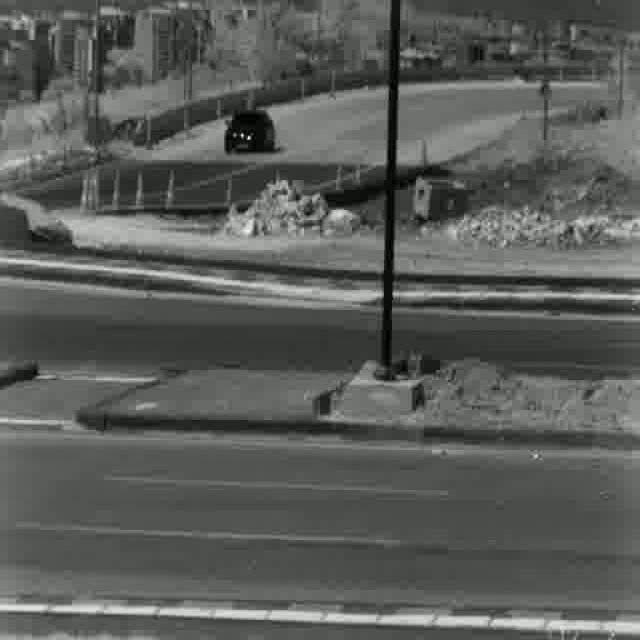Car: (223, 108, 277, 156)
